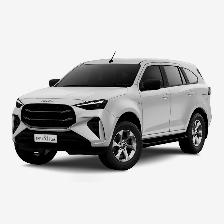NON-EV: (14, 52, 213, 172)
